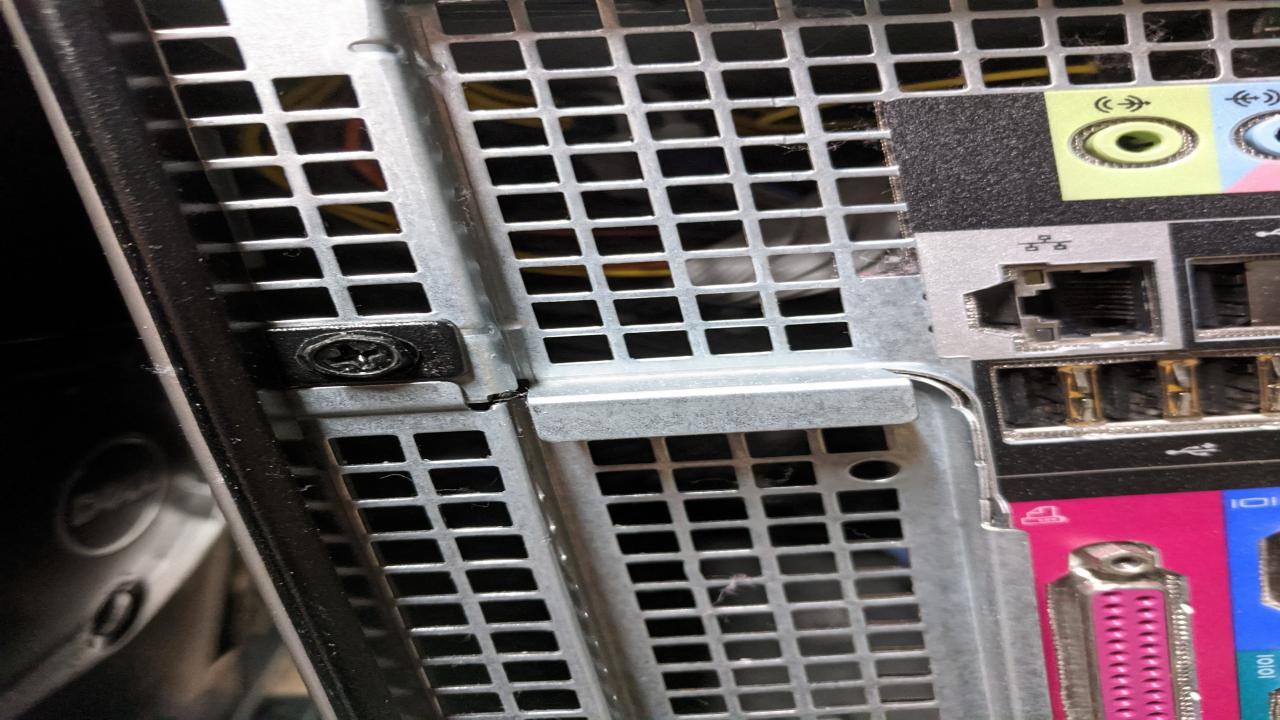CRS: (304, 334, 418, 380)
